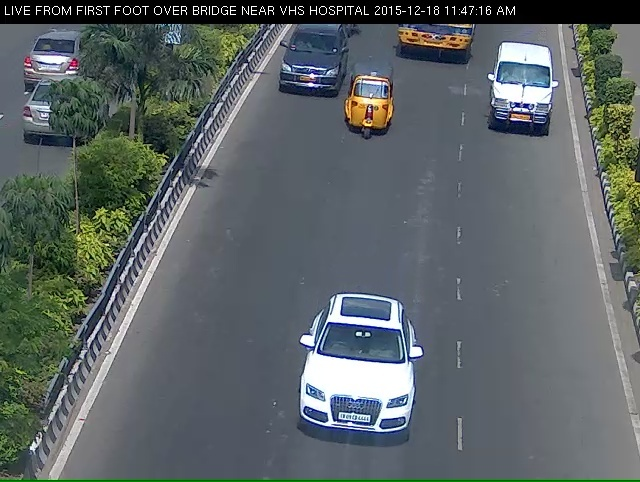Car: (279, 316, 428, 481), (484, 41, 567, 154), (273, 29, 341, 115), (347, 67, 400, 162)
